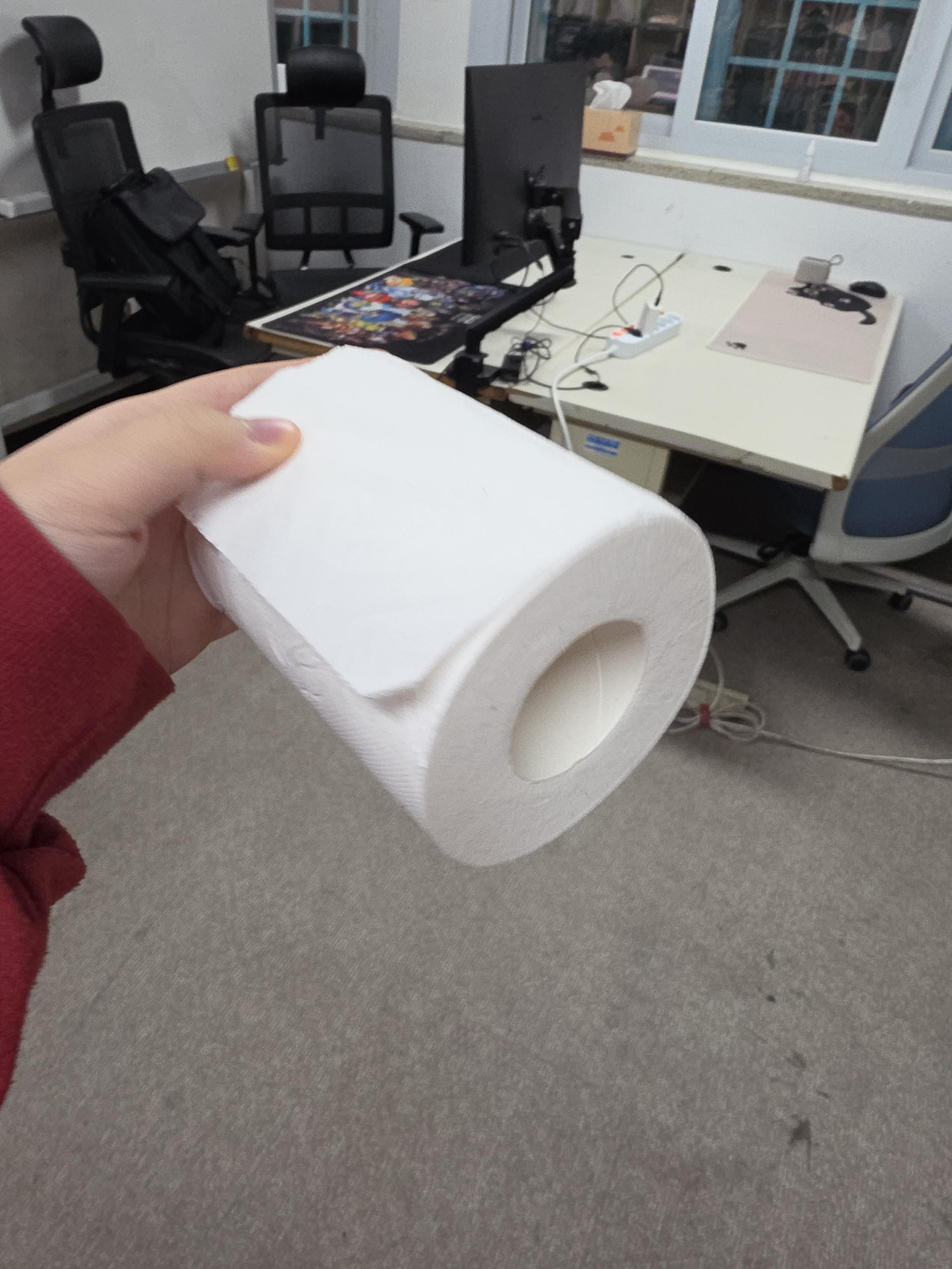tissue: (178, 344, 717, 867), (582, 79, 643, 156)
